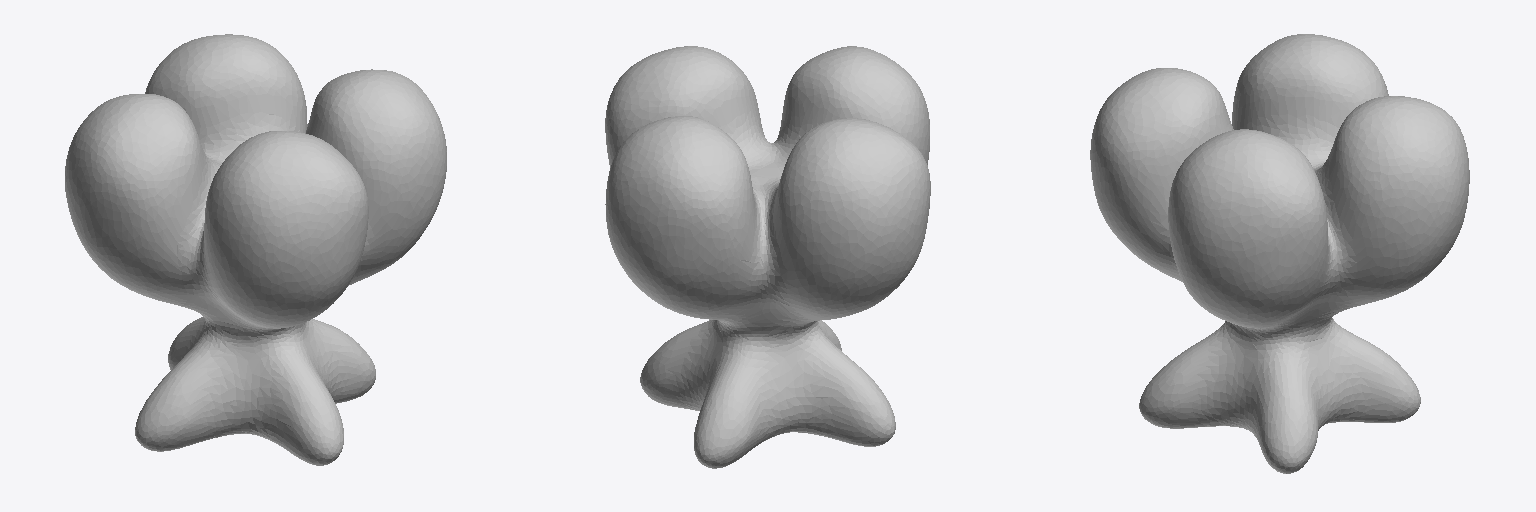
Rendered from GROW.04.obj.
The picture shows the model from 3 angles: view 1: azimuth 30°, elevation 25°; view 2: azimuth 150°, elevation 25°; view 3: azimuth 270°, elevation 25°; orthographic projection.
Parts seen in each view (by area): view 1: Quad_Sphere; view 2: Quad_Sphere; view 3: Quad_Sphere.
Part boxes in pixels (x1,y1,x2,y2): Quad_Sphere: (65,34,446,465); Quad_Sphere: (605,46,930,468); Quad_Sphere: (1090,34,1469,473).
Bounding box in the file's own units: 3.7 × 3.6 × 3.7.